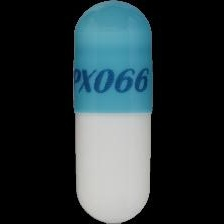64896-661: (0, 0, 224, 224)
